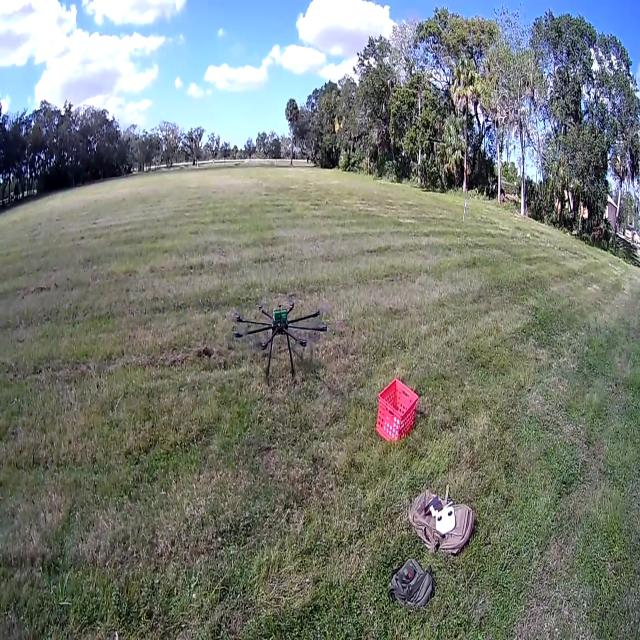drone: (228, 286, 328, 391)
